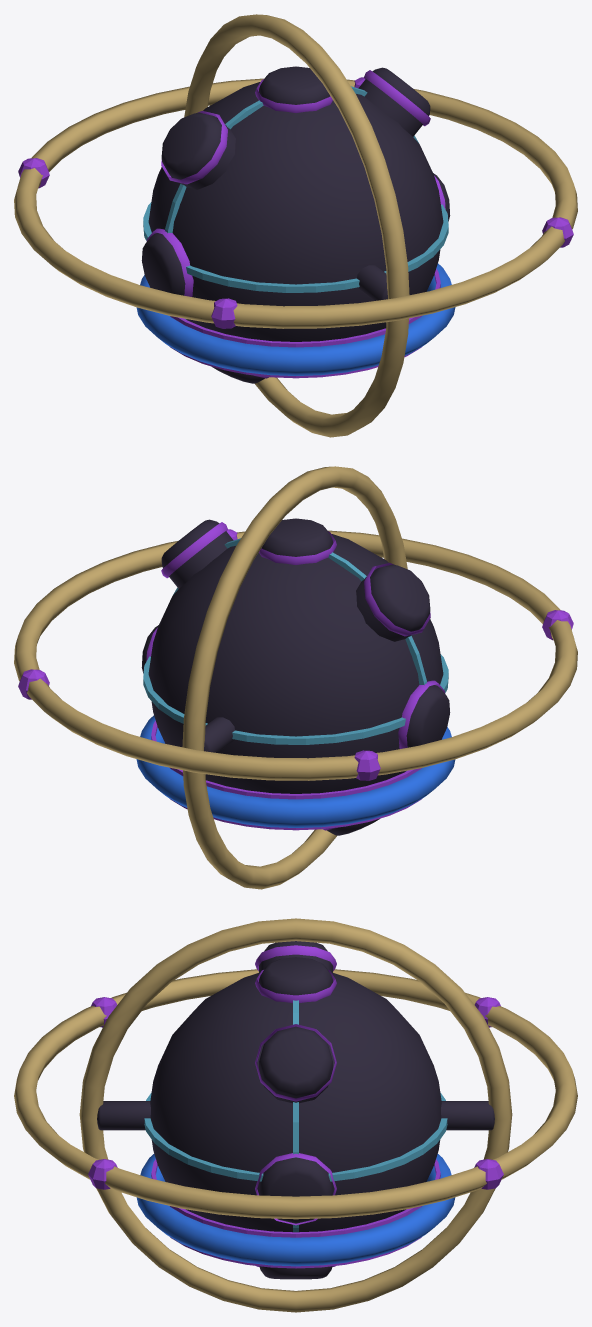
Rendered from Kit_Core_LeagueGyro.glb.
The picture shows the model from 3 angles, top to bottom: view 1: azimuth 30°, elevation 25°; view 2: azimuth 150°, elevation 25°; view 3: azimuth 270°, elevation 25°; orthographic projection.
Parts seen in each view (by area): view 1: Kit_Core_LeagueGyro; view 2: Kit_Core_LeagueGyro; view 3: Kit_Core_LeagueGyro.
Boxes of the visible parts, x1,y1,x2,y2 form: Kit_Core_LeagueGyro: (14,14,577,437); Kit_Core_LeagueGyro: (14,466,577,889); Kit_Core_LeagueGyro: (14,918,577,1312).
Size of the model in its own units: 0.687 by 0.527 by 0.687.
